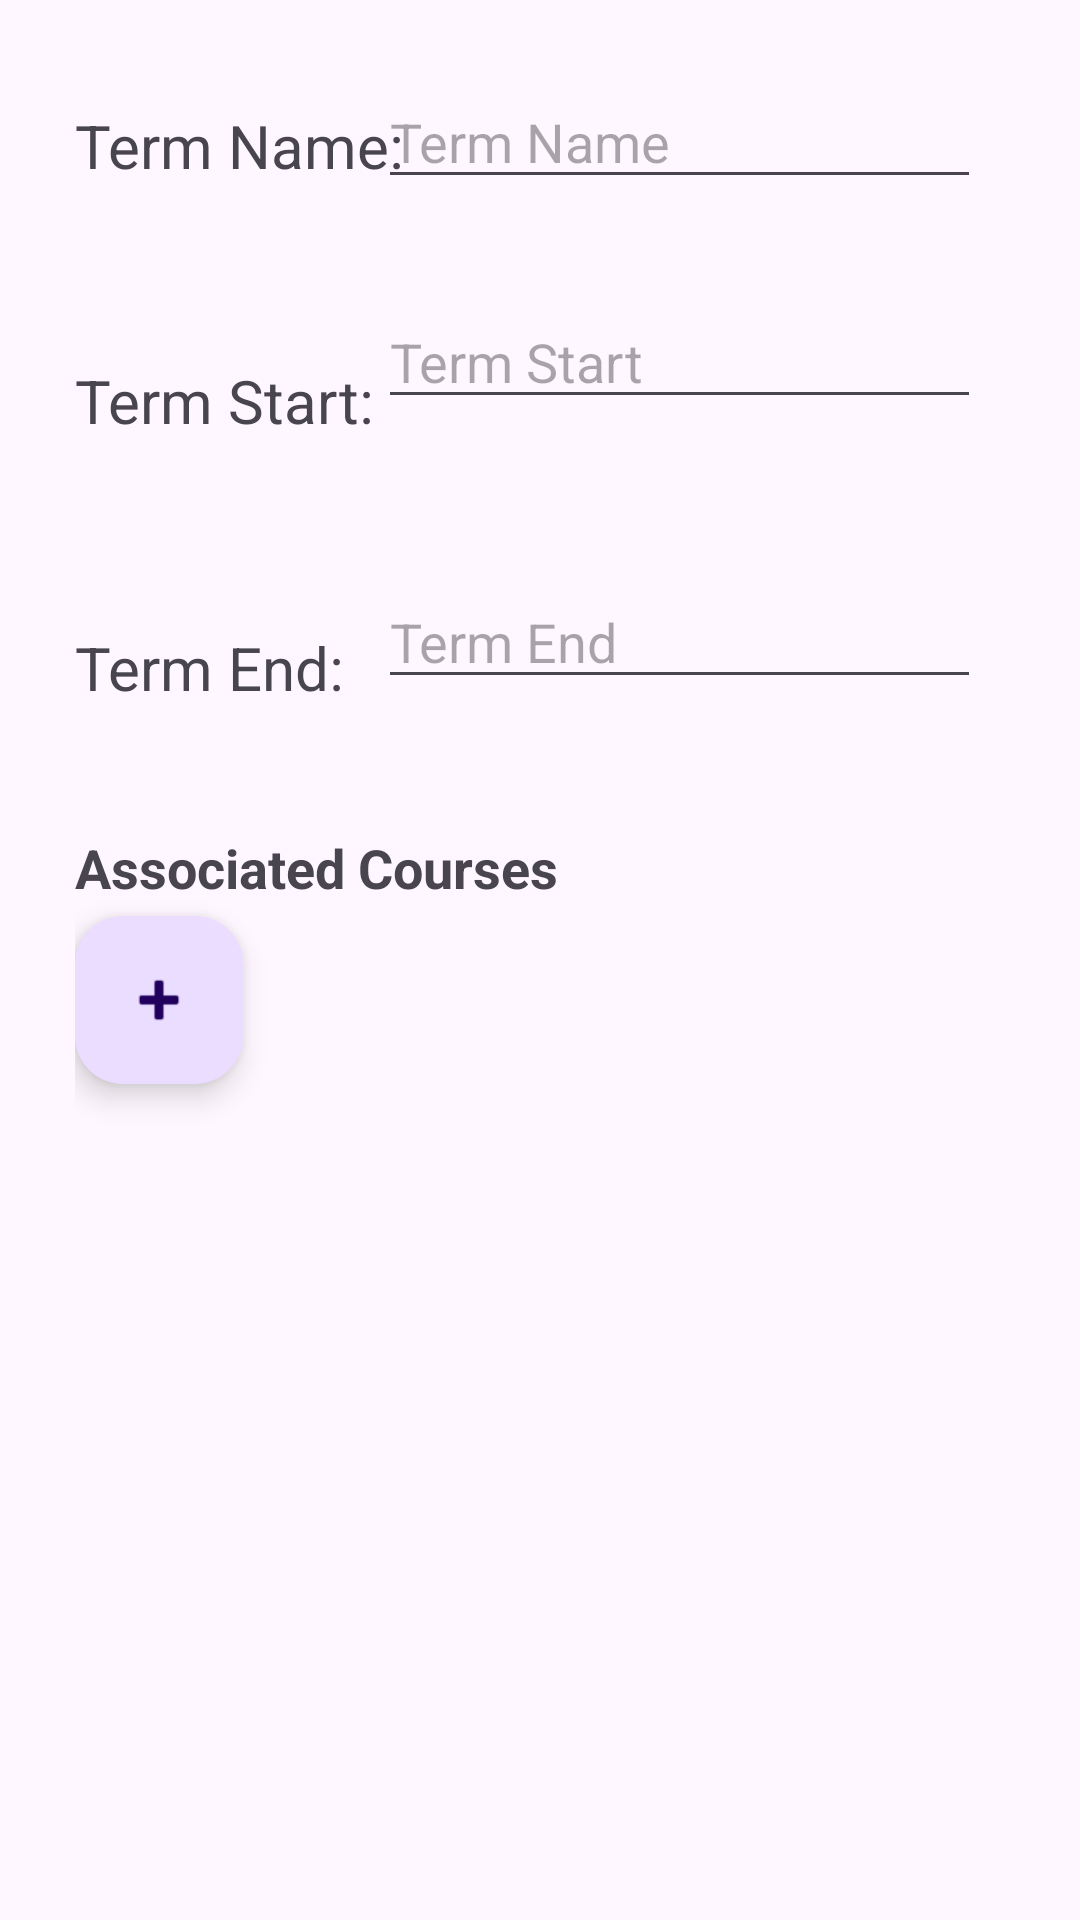

Icon click points for this 1080 x 1920 phone screenshot, format (x,y):
add: (159,1000)
